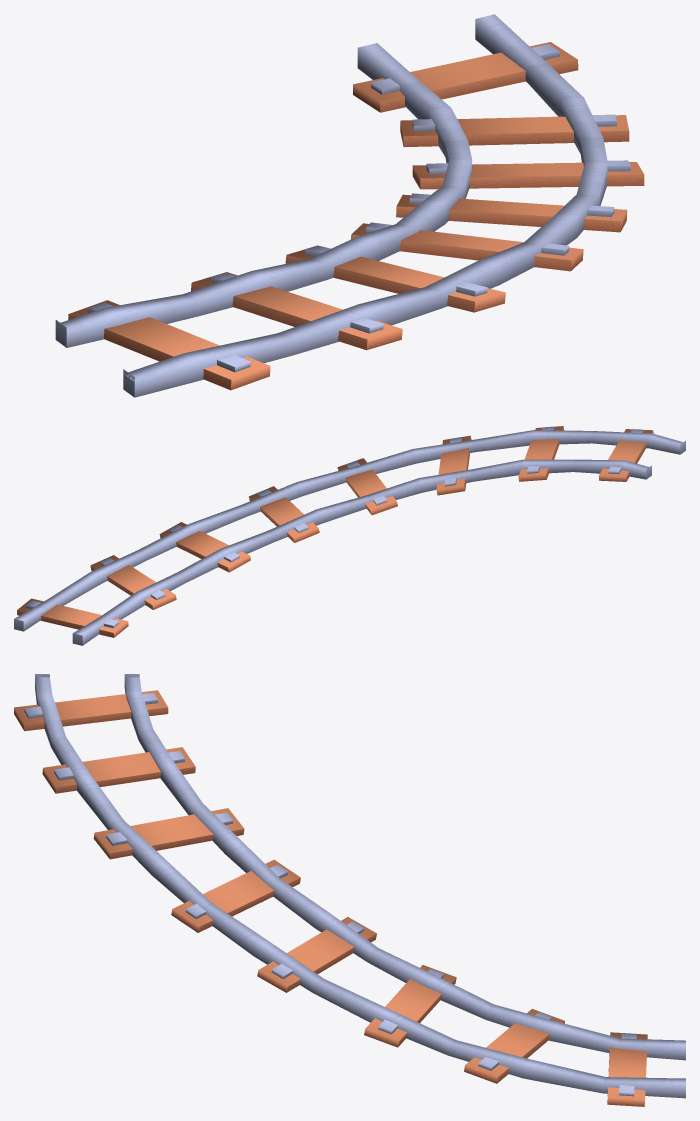
File: railroad-damaged-corner-large-ramp.glb
3 renders of one model, top to bottom at view 1: azimuth 30°, elevation 25°; view 2: azimuth 150°, elevation 25°; view 3: azimuth 270°, elevation 25°, orthographic. The views are drawn at different scales.
Parts seen in each view (by area): view 1: railroad-damaged-corner-large-ramp; view 2: railroad-damaged-corner-large-ramp; view 3: railroad-damaged-corner-large-ramp.
Boxes of the visible parts, x1,y1,x2,y2 form: railroad-damaged-corner-large-ramp: (55, 14, 644, 397); railroad-damaged-corner-large-ramp: (14, 426, 685, 645); railroad-damaged-corner-large-ramp: (14, 674, 685, 1106).
Size of the model in its own units: 4.48 by 1.1 by 4.49.
Materials: 1 (1 with a texture image).
